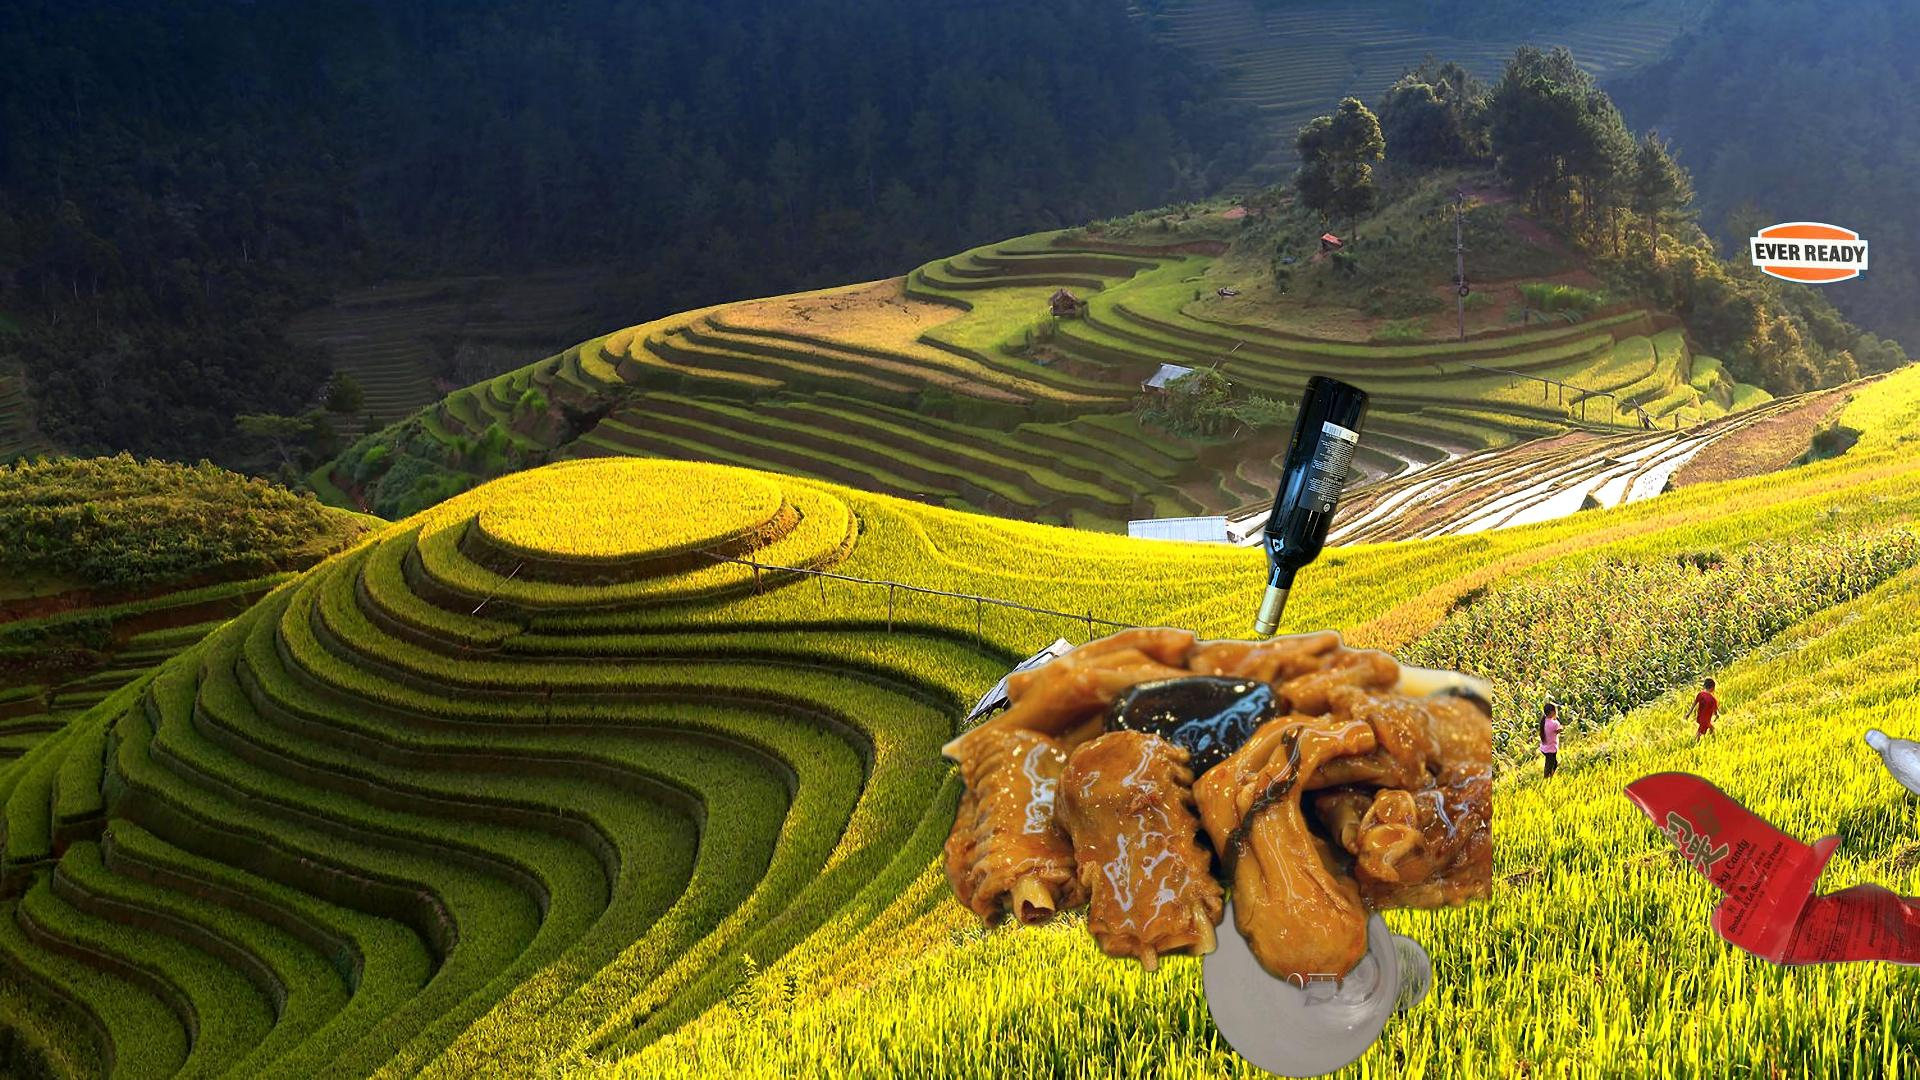battery: (1746, 219, 1873, 287)
biological: (942, 622, 1491, 1021)
glass: (1197, 862, 1437, 1080), (1241, 369, 1374, 641)
paper: (1618, 767, 1920, 971)
plastic-bottles: (1859, 723, 1920, 833)
